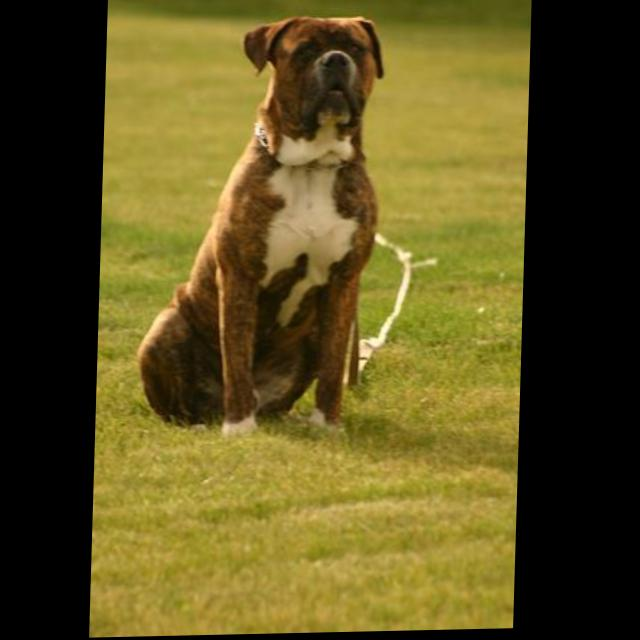bullmastiff: (137, 14, 388, 442)
